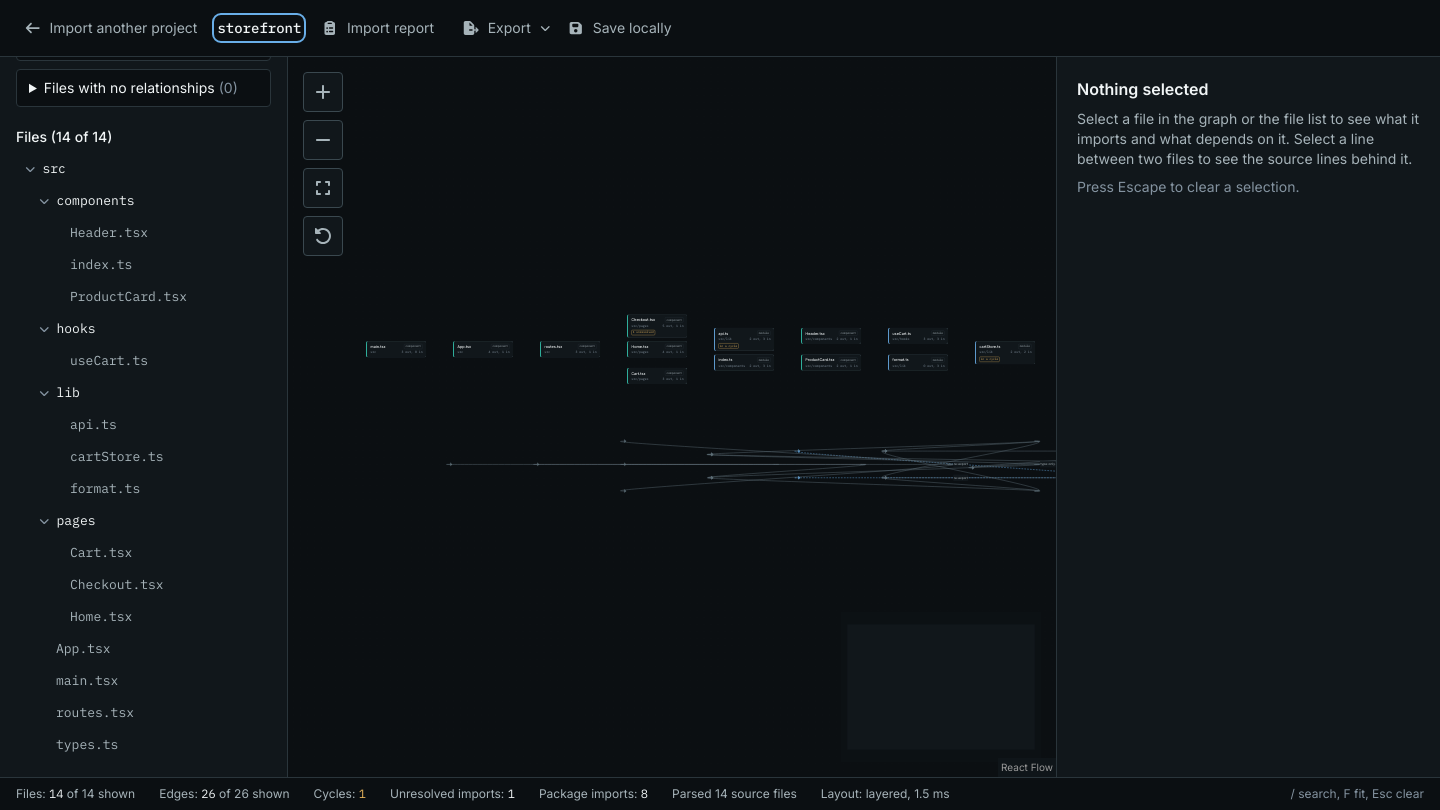
Test: Workspace with a multi-file project › limits the view to a file and its neighbors, then restores it
(page scrolled)
Click the button "format.ts" at {"x": 144, "y": 489}, box top-left (16, 473), bottom-right (271, 505)
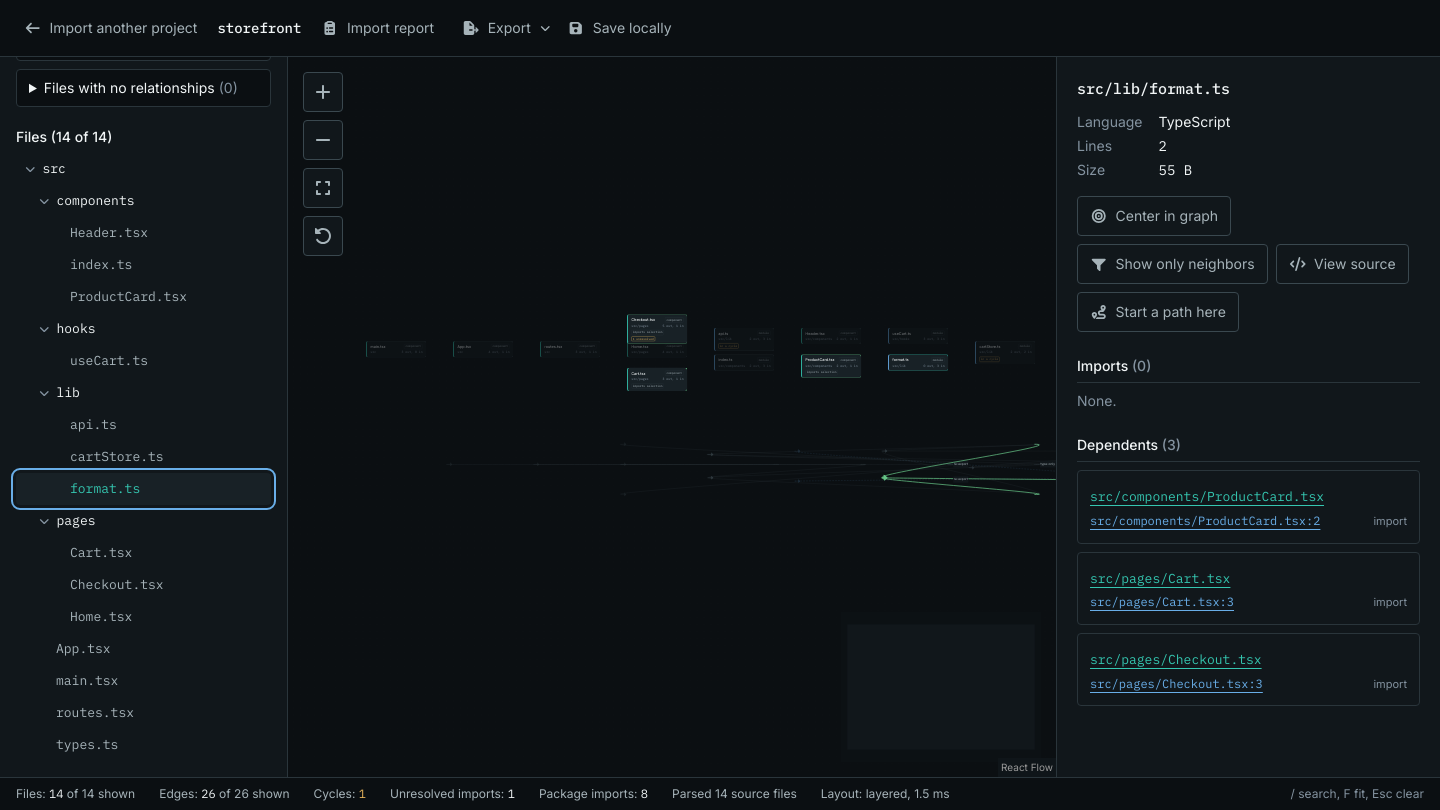
Click the button "Show only neighbors" at {"x": 1172, "y": 264}, box top-left (1077, 244), bottom-right (1268, 284)
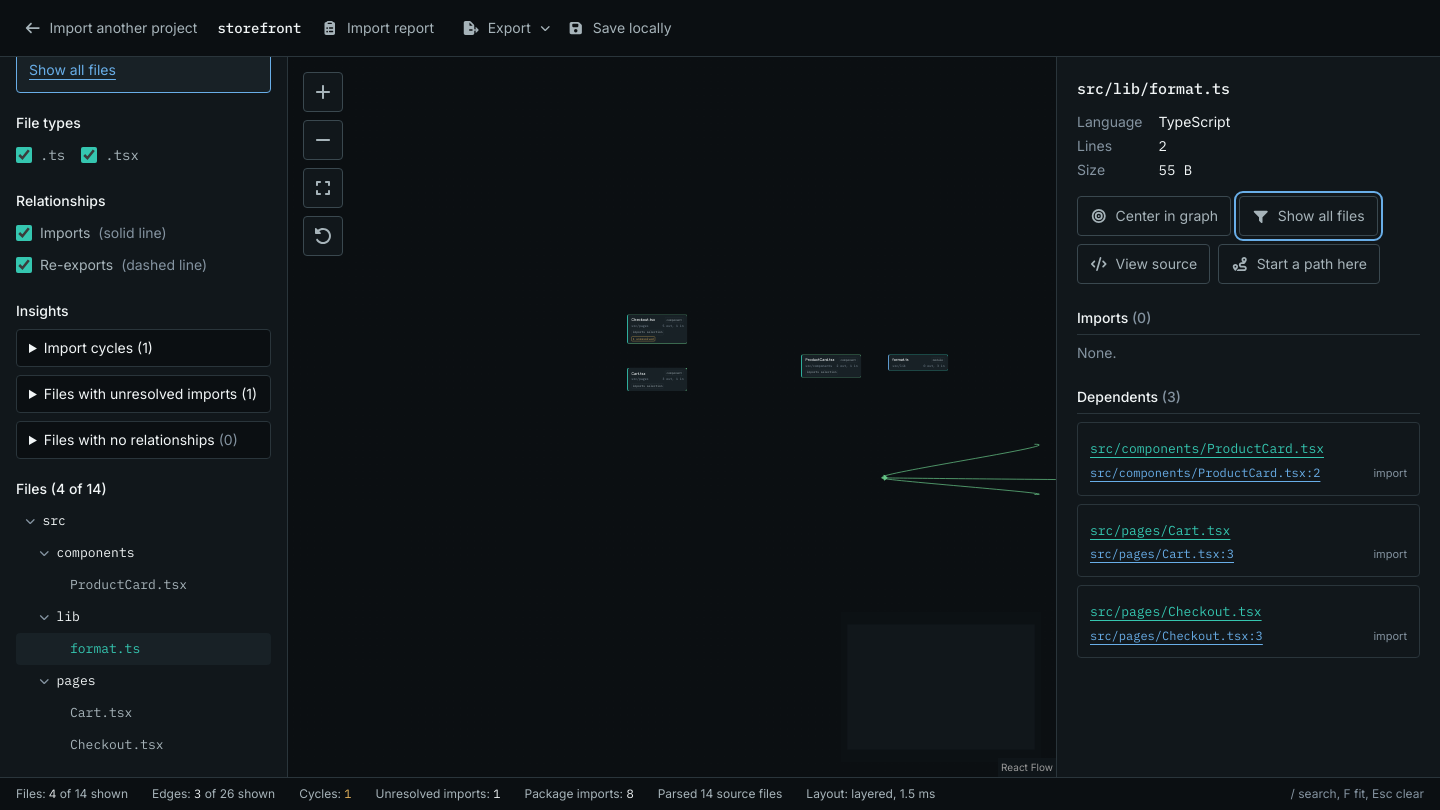
Expected: the message shows "Files: 4 of 14 shown", top-left (0, 777), bottom-right (1439, 809)
Click the button "Show all files" below "Layout" at {"x": 72, "y": 70}, box top-left (29, 60), bottom-right (116, 80)
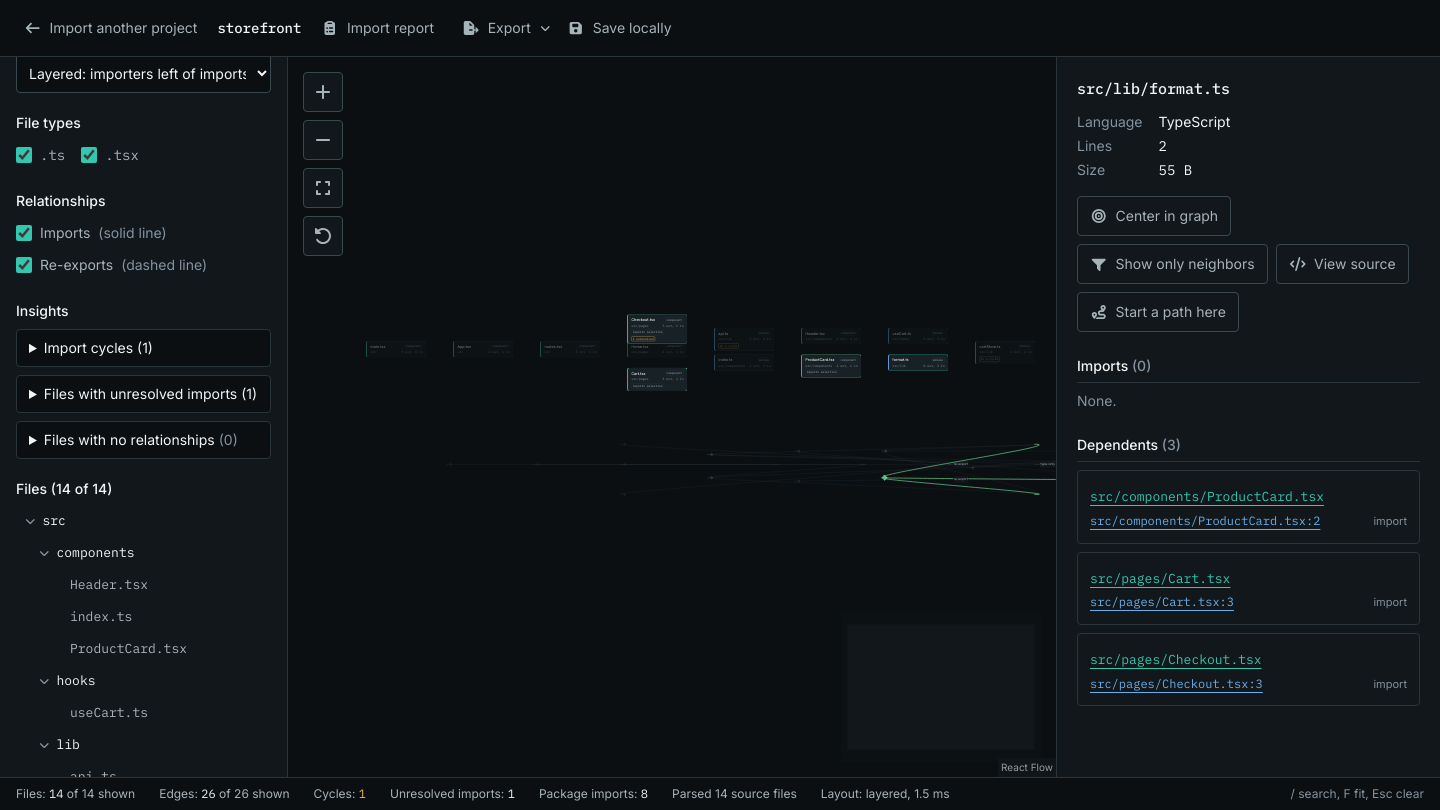
Expected: the message shows "Files: 14 of 14 shown", top-left (0, 777), bottom-right (1439, 809)
